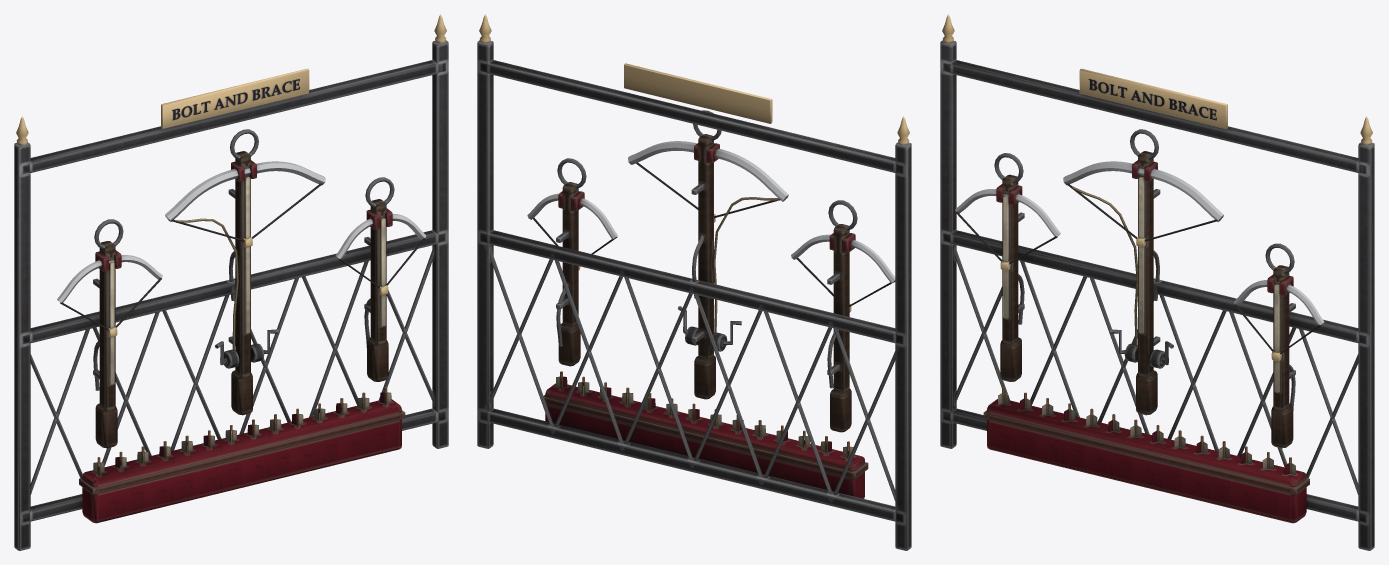
File: CrossbowRack.fbx
3 renders of one model, left to right at view 1: azimuth 30°, elevation 25°; view 2: azimuth 150°, elevation 25°; view 3: azimuth 330°, elevation 25°, orthographic.
Visible parts, largest first — view 1: CrossbowRack; view 2: CrossbowRack; view 3: CrossbowRack.
Boxes of the visible parts, x1,y1,x2,y2 form: CrossbowRack: (14, 14, 448, 550); CrossbowRack: (477, 14, 911, 550); CrossbowRack: (940, 14, 1374, 550).
Size of the model in its own units: 556 by 534 by 47.2.
